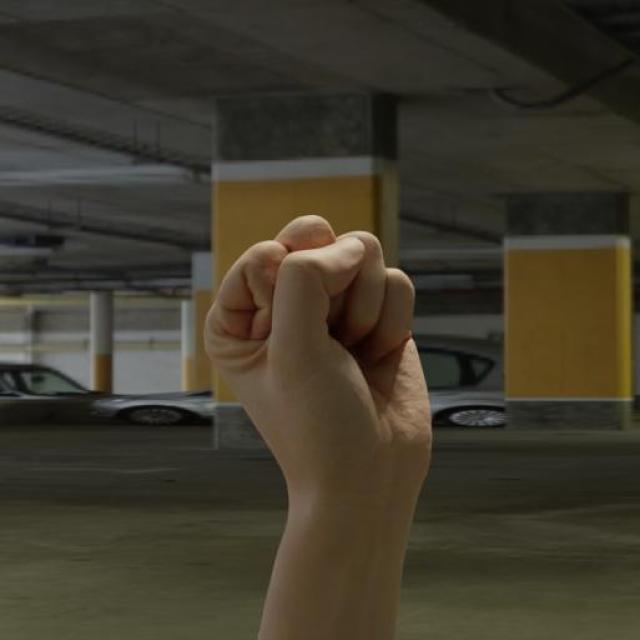S: (199, 212, 437, 493)
